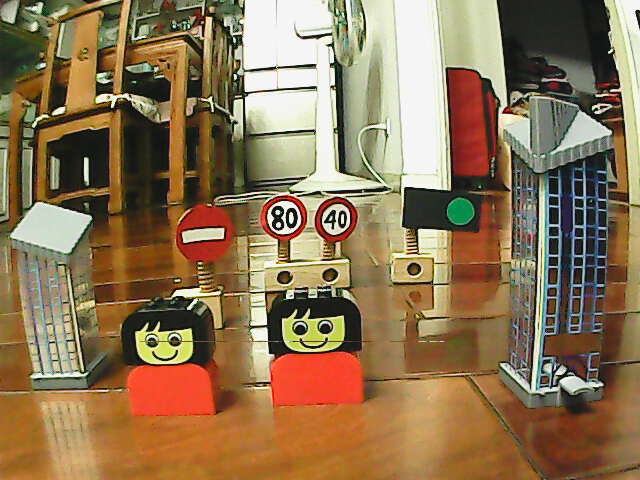Green Traffic Light: (441, 191, 479, 232)
Person: (117, 294, 226, 418), (262, 289, 367, 409)
Speed Limit 40: (312, 195, 358, 244)
Speed Limit 80: (257, 191, 309, 242)
Stop Sign: (171, 202, 235, 263)
